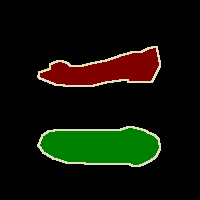shoe: (38, 46, 160, 86), (38, 126, 160, 166)
